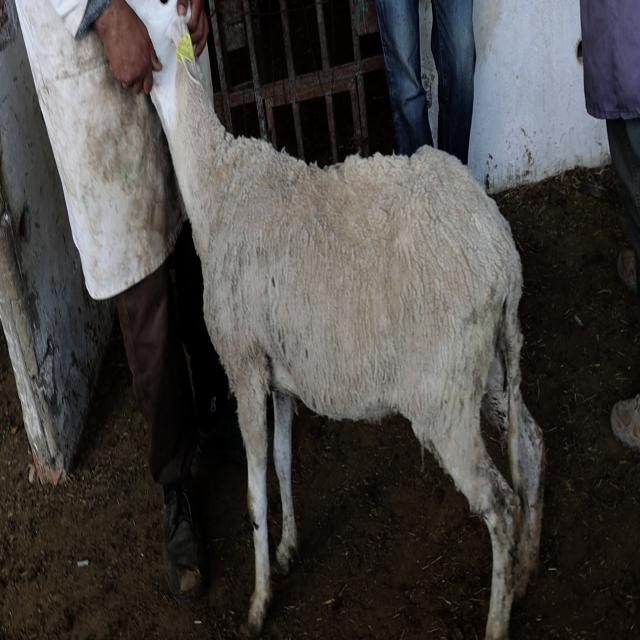Score_1: (129, 0, 545, 639)
